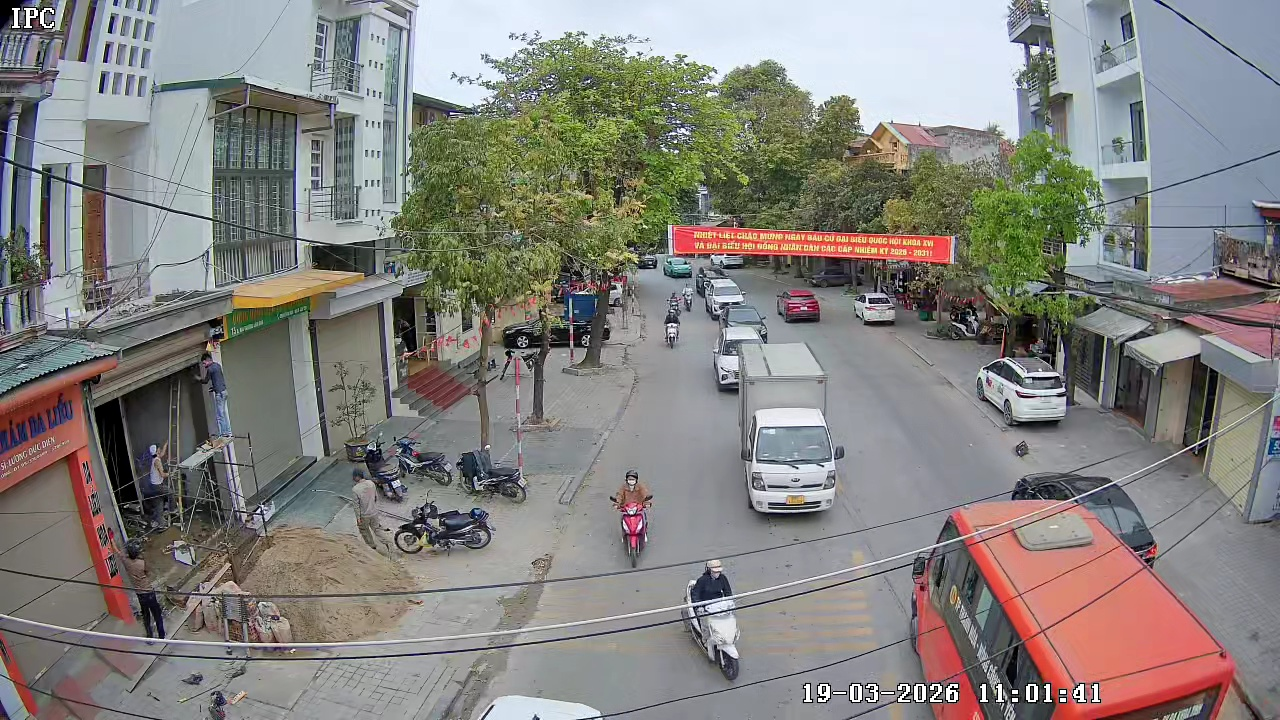car: (740, 339, 844, 516), (1009, 469, 1160, 570), (975, 354, 1069, 428), (724, 304, 770, 346), (705, 279, 745, 320), (712, 344, 745, 392), (777, 288, 822, 323), (855, 291, 897, 327), (721, 319, 757, 352), (663, 255, 693, 278)
motorbike: (678, 557, 744, 681), (393, 498, 496, 556), (608, 468, 655, 568), (663, 312, 679, 348), (678, 282, 698, 310), (667, 288, 682, 321)
truck: (740, 341, 843, 516)
